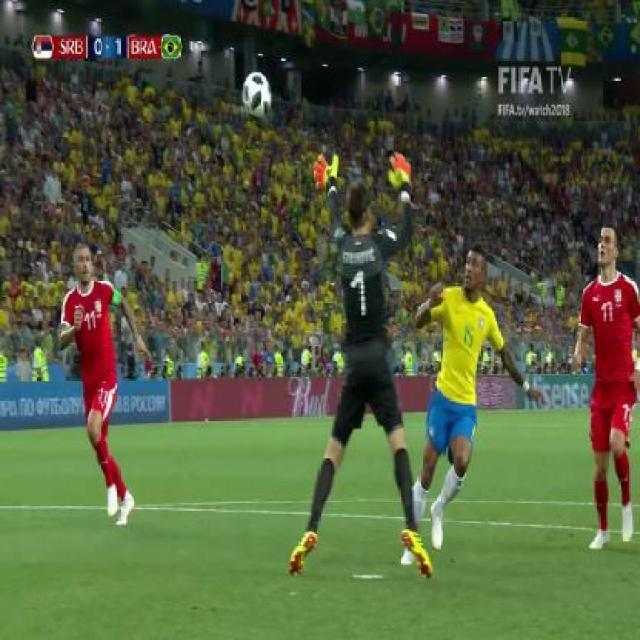ball: (240, 68, 274, 119)
player: (285, 151, 436, 582), (396, 247, 547, 572), (56, 245, 145, 541), (574, 223, 640, 560)
